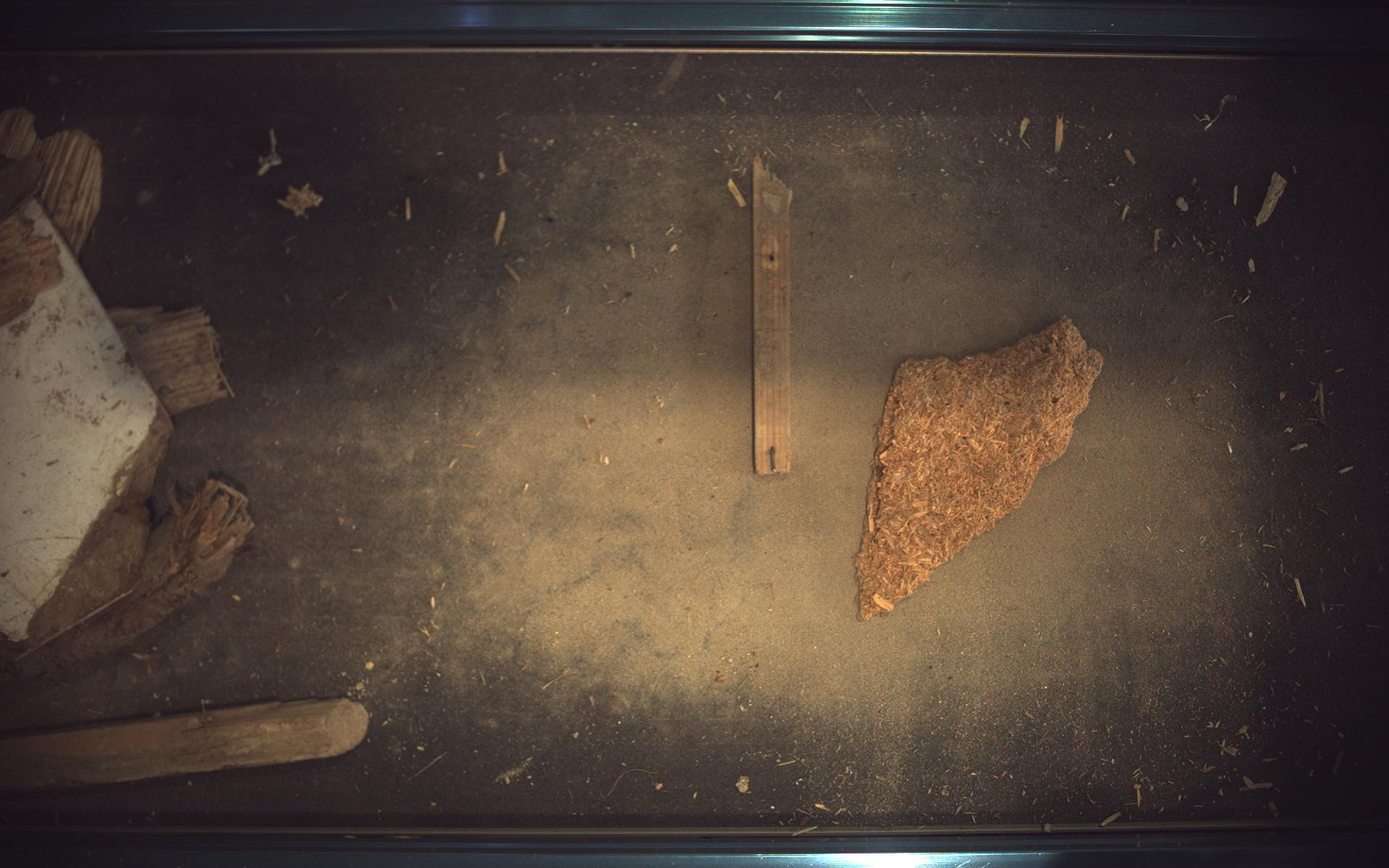wood: (857, 318, 1105, 621), (754, 155, 794, 475)
